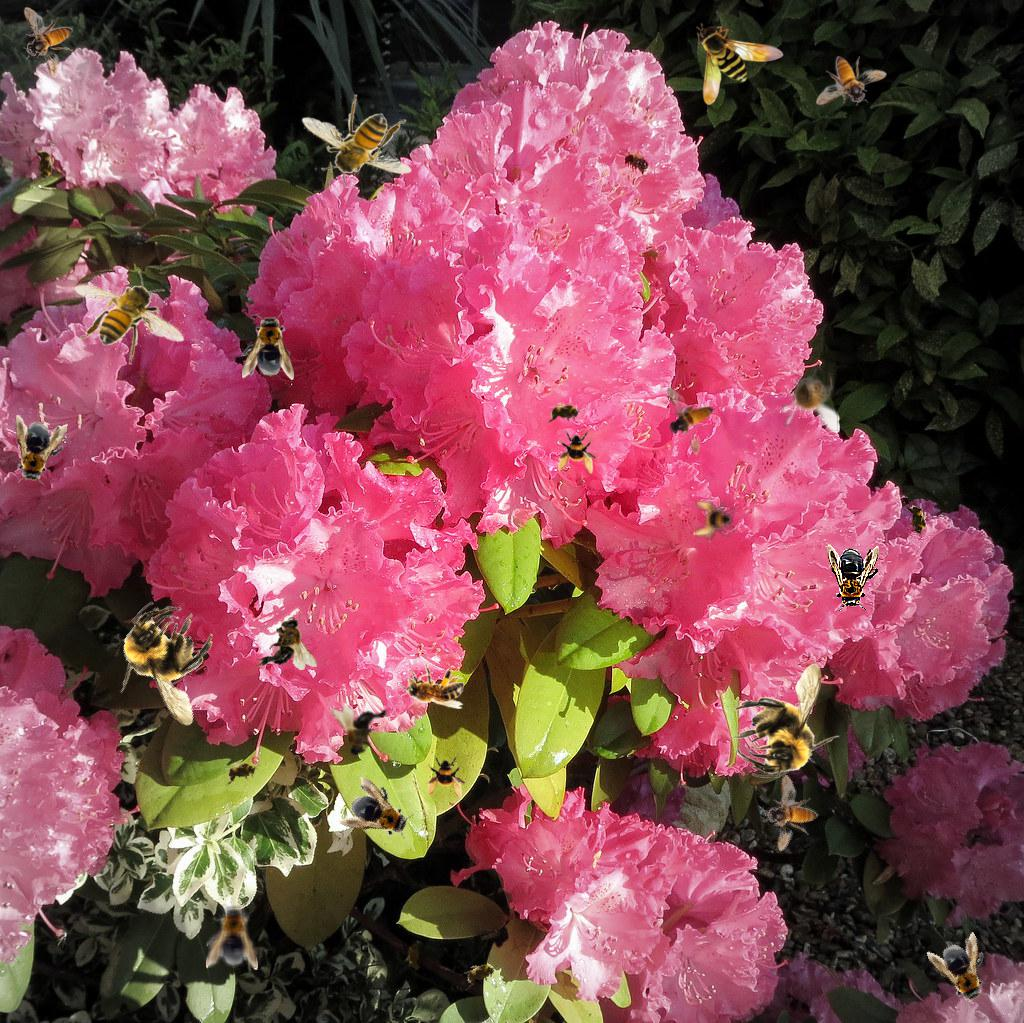Bee: (89, 586, 248, 743), (733, 663, 840, 778), (74, 271, 185, 365), (301, 94, 412, 188), (696, 23, 784, 105), (751, 773, 829, 860), (925, 930, 1003, 1014), (338, 775, 422, 851), (6, 414, 68, 490), (779, 363, 840, 433), (23, 7, 73, 78), (665, 386, 715, 457), (816, 56, 887, 106), (242, 312, 294, 380), (827, 544, 879, 612), (206, 902, 258, 970), (331, 705, 393, 758), (255, 617, 317, 670), (398, 664, 464, 709), (556, 430, 600, 474), (425, 755, 469, 799), (693, 499, 737, 543), (458, 957, 504, 991), (220, 757, 264, 787), (903, 498, 931, 542), (33, 145, 55, 185), (545, 402, 585, 424), (404, 936, 426, 976)
